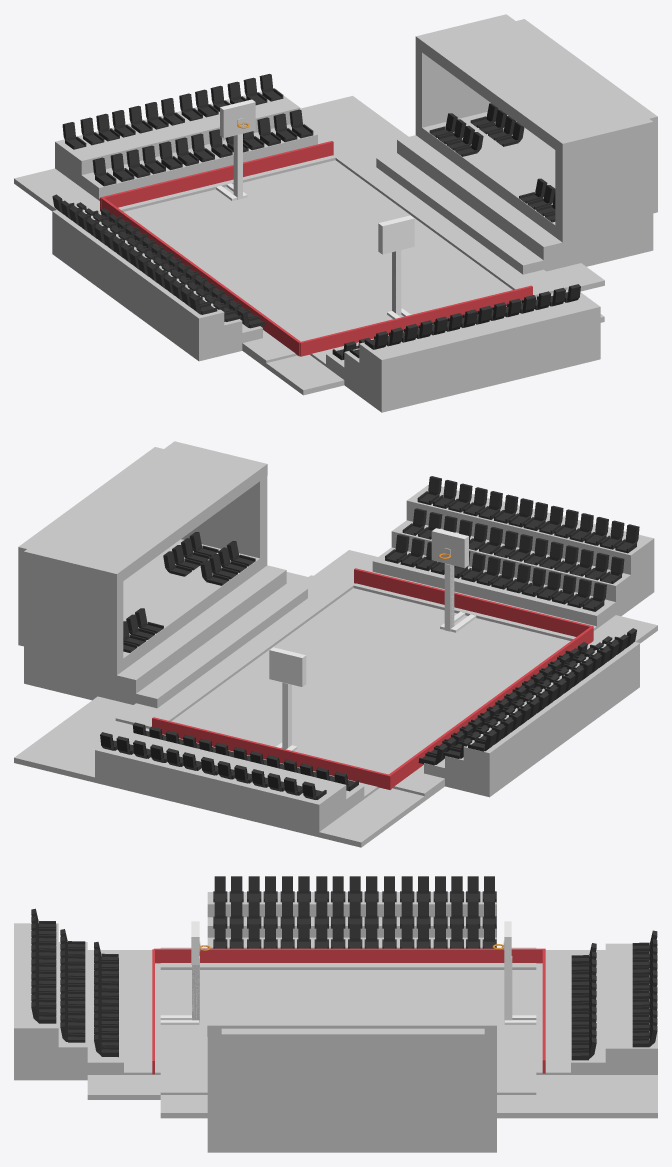
File: Basketball Court.glb
3 renders of one model, top to bottom at view 1: azimuth 30°, elevation 25°; view 2: azimuth 150°, elevation 25°; view 3: azimuth 270°, elevation 25°, orthographic. The views are drawn at different scales.
Parts seen in each view (by area): view 1: Cube, Cube.141, Cube.139, Cube.140; view 2: Cube, Cube.139, Cube.141, Cube.140; view 3: Cube, Cube.140, Cube.141.
Boxes of the visible parts, x1,y1,x2,y2 form: Cube: (14, 14, 657, 412); Cube.141: (100, 141, 333, 211); Cube.139: (299, 285, 532, 356); Cube.140: (101, 198, 300, 356); Cube: (14, 441, 657, 847); Cube.139: (354, 568, 593, 639); Cube.141: (152, 717, 391, 789); Cube.140: (389, 627, 593, 788); Cube: (14, 892, 657, 1152); Cube.140: (154, 948, 542, 963); Cube.141: (542, 948, 545, 1073).
Bounding box in the file's own units: 72.36 × 19.1 × 87.72.
